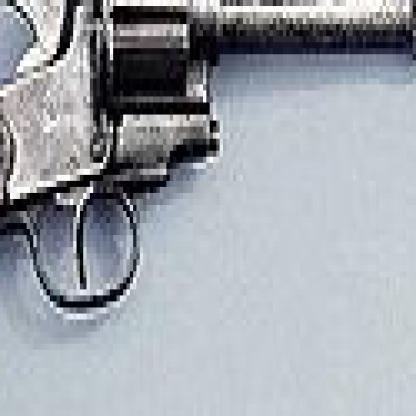gun: (0, 0, 413, 410)
